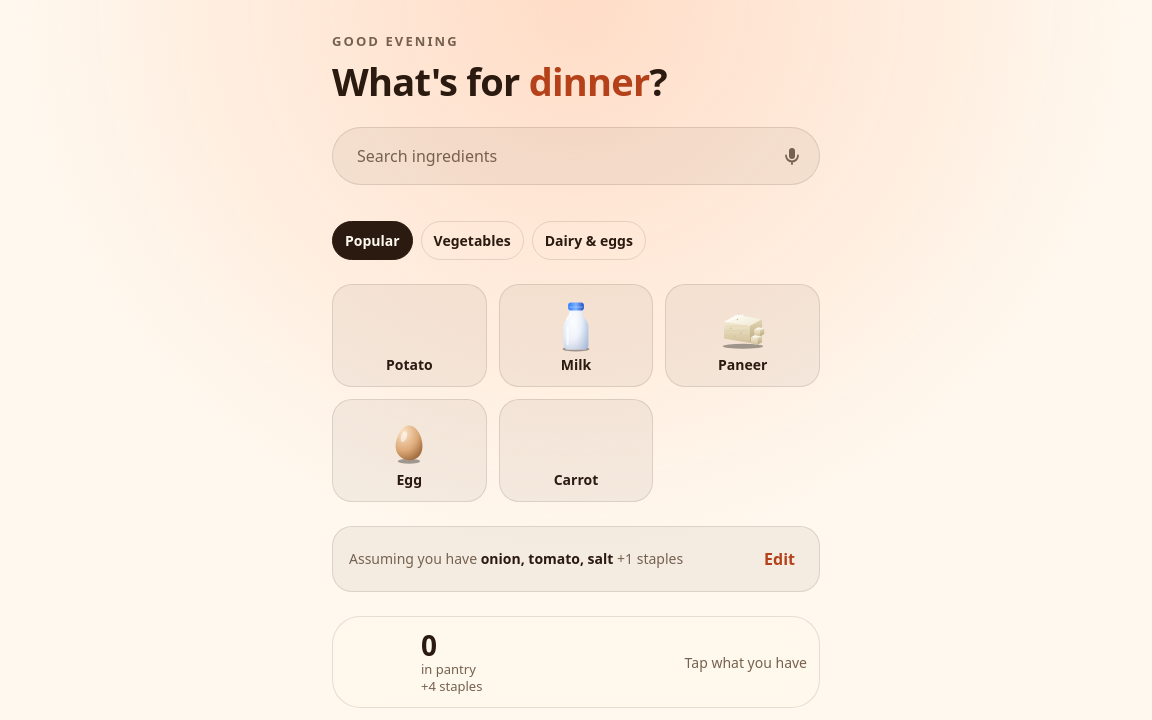
it: a category tab shows that category's ingredients
Expected: the button "Potato" is shown, [332,284,487,387]
Click the button "Vegetables": (472, 241) [421,221,524,260]
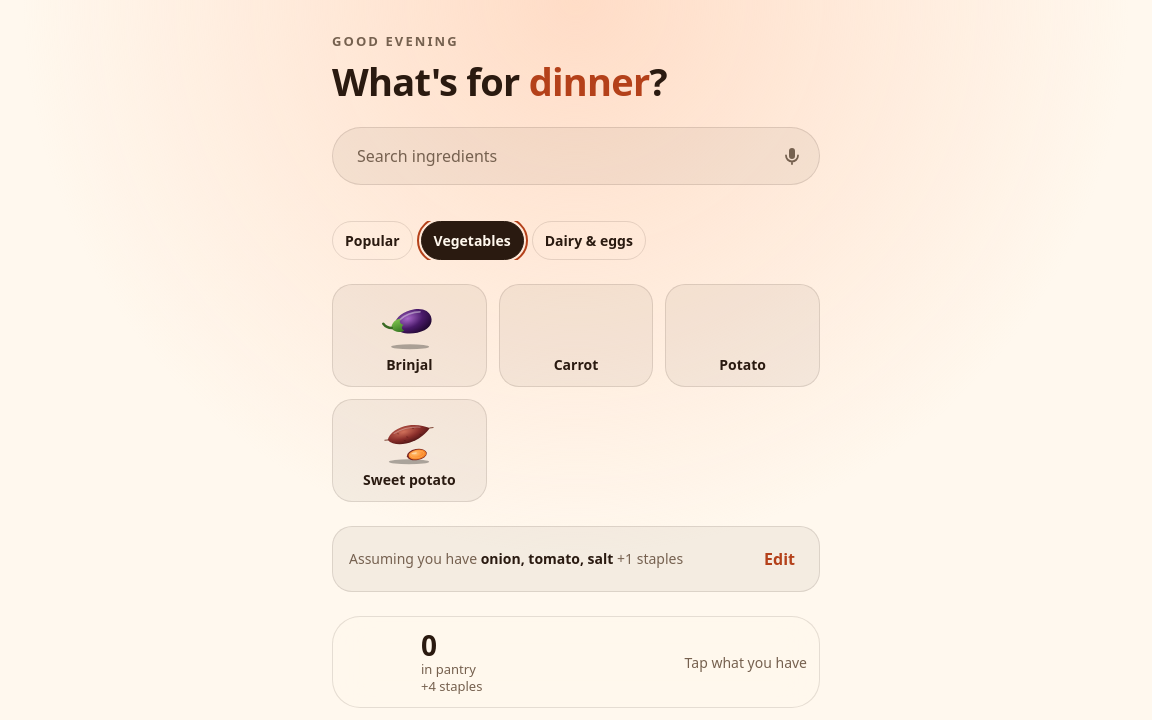
Expected: the button "Sweet potato" is shown, [332,399,487,502]
Expected: the button "Milk" is gone
